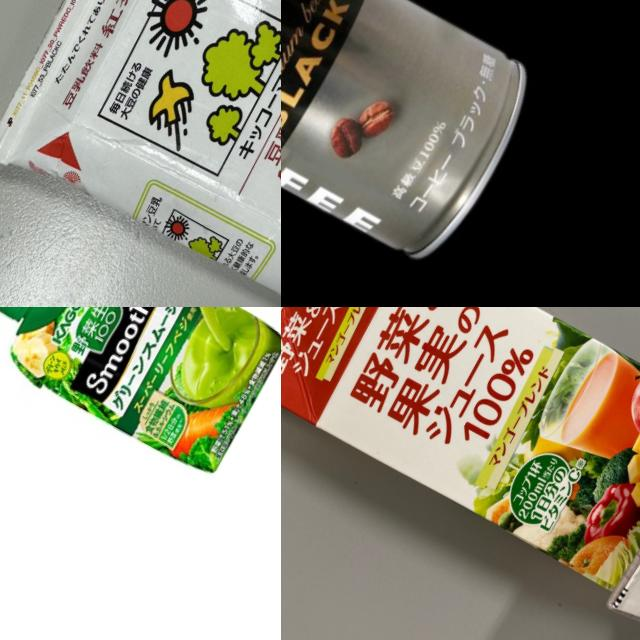Aluminium Foil: (281, 307, 640, 640), (0, 0, 281, 307), (0, 307, 281, 493)
Can: (281, 0, 554, 284)
